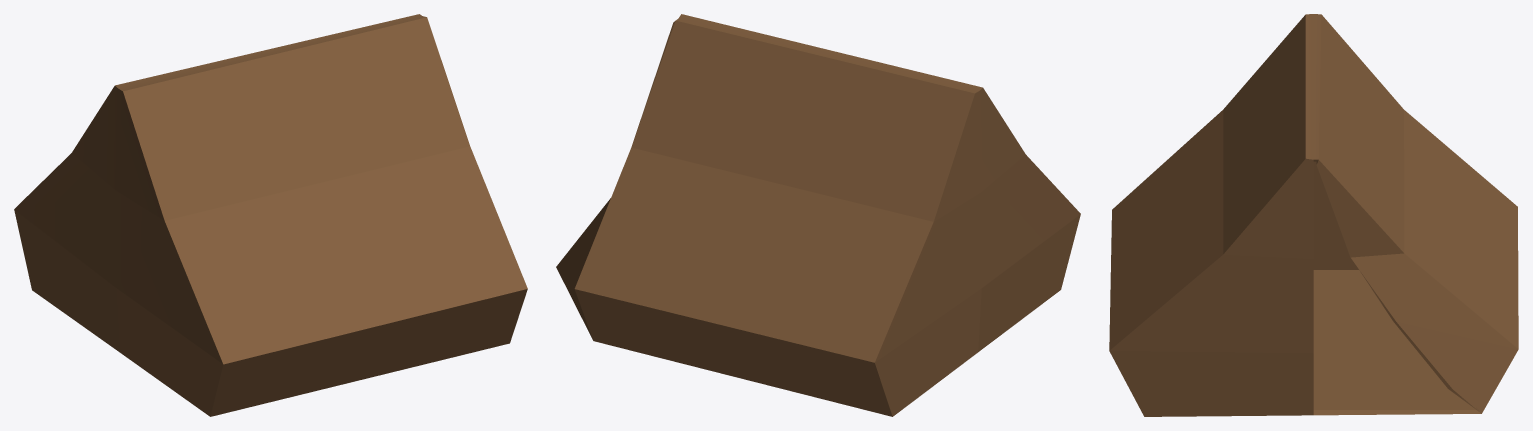
File: Tent.obj
3 views of the same model, side by side, from view 1: azimuth 30°, elevation 25°; view 2: azimuth 150°, elevation 25°; view 3: azimuth 270°, elevation 25° (orthographic). The views are drawn at different scales.
Visible parts, largest first — view 1: Tent; view 2: Tent; view 3: Tent.
Part boxes in pixels (x1,y1,x2,y2): Tent: [14, 14, 527, 416]; Tent: [556, 14, 1080, 416]; Tent: [1109, 14, 1518, 416].
Size of the model in its own units: 31.25 by 22.19 by 31.83.
